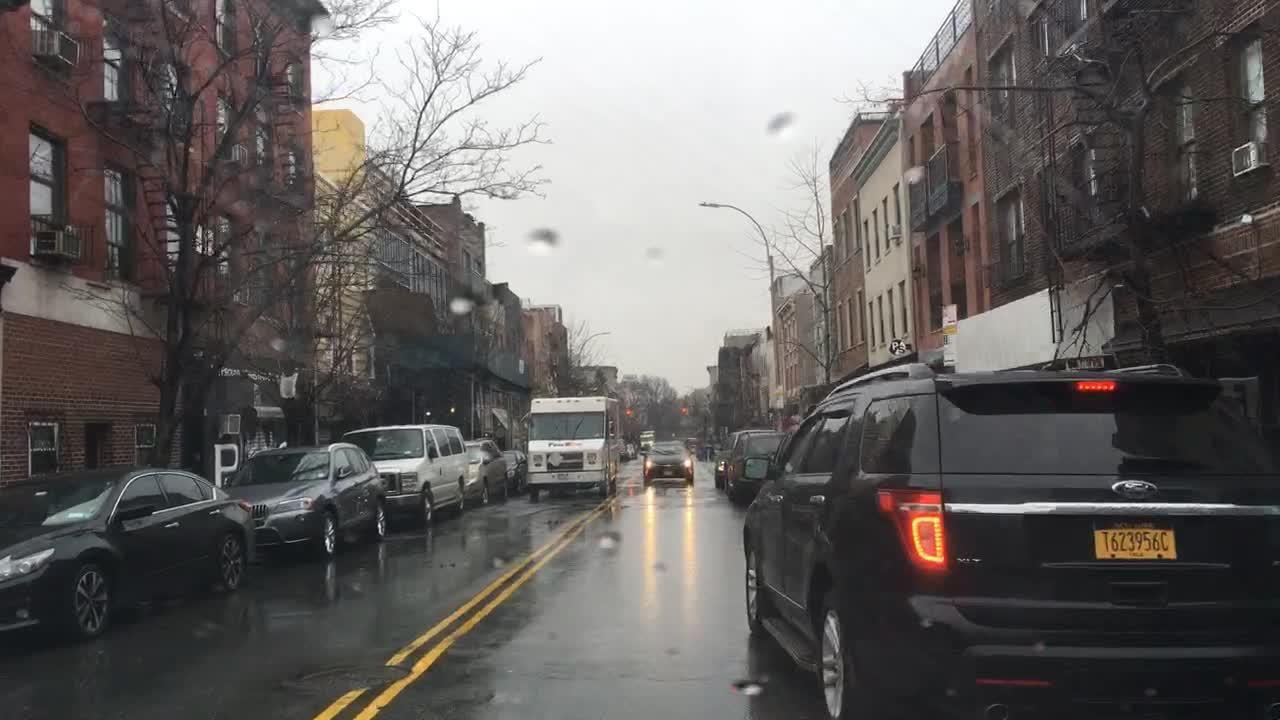ford: (1107, 477, 1162, 502)
